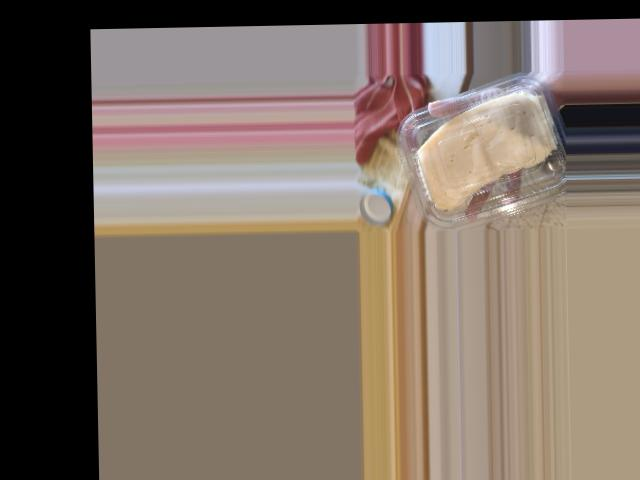cheese: (393, 82, 568, 225)
